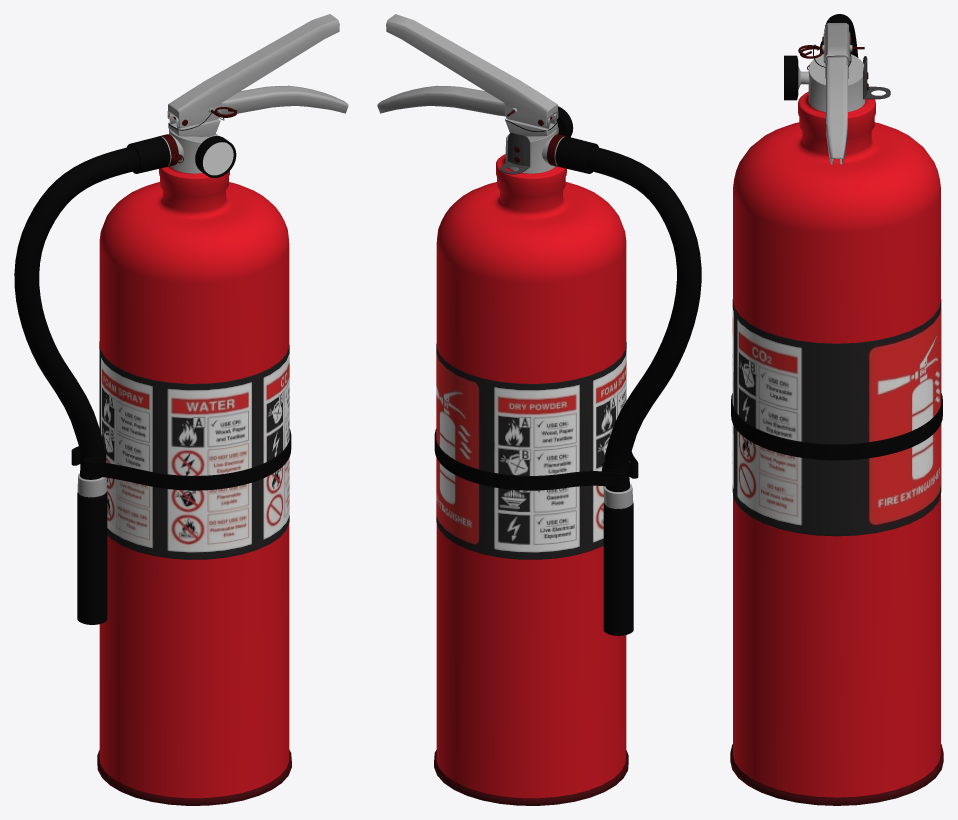
Rendered from Extincteur.fbx.
3 views of the same model, side by side, from view 1: azimuth 30°, elevation 25°; view 2: azimuth 150°, elevation 25°; view 3: azimuth 270°, elevation 25° (orthographic). The views are drawn at different scales.
Parts seen in each view (by area): view 1: FE; view 2: FE; view 3: FE.
Boxes of the visible parts, x1=… form: FE: x1=14, y1=14, x2=348, y2=805; FE: x1=377, y1=14, x2=701, y2=805; FE: x1=730, y1=14, x2=943, y2=805.
Bounding box in the file's own units: 0.3176 × 0.666 × 0.1649.
13 materials, 2 textured.
